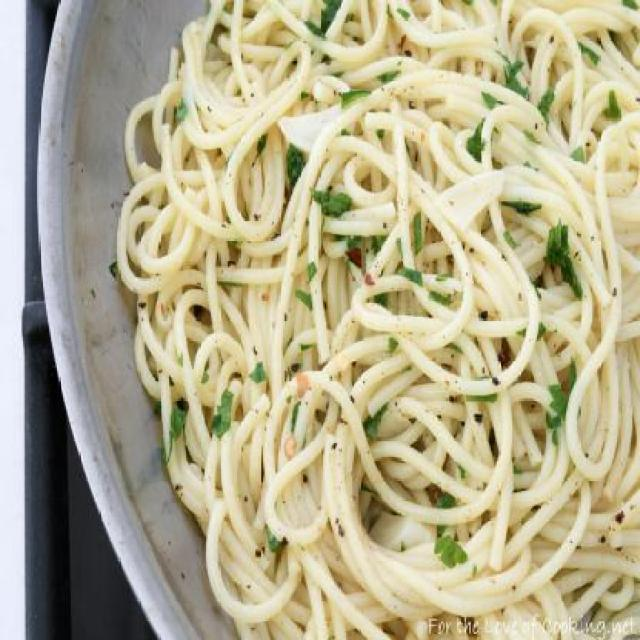Oil pasta: (116, 3, 639, 632)
